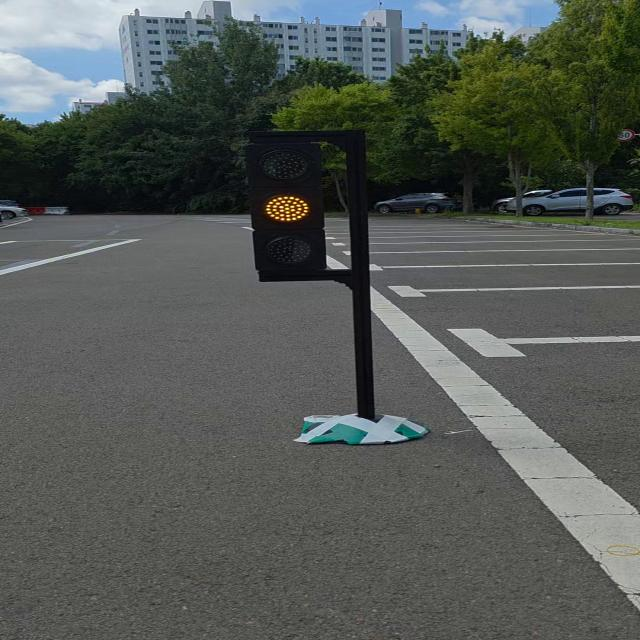yellow: (243, 137, 331, 286)
